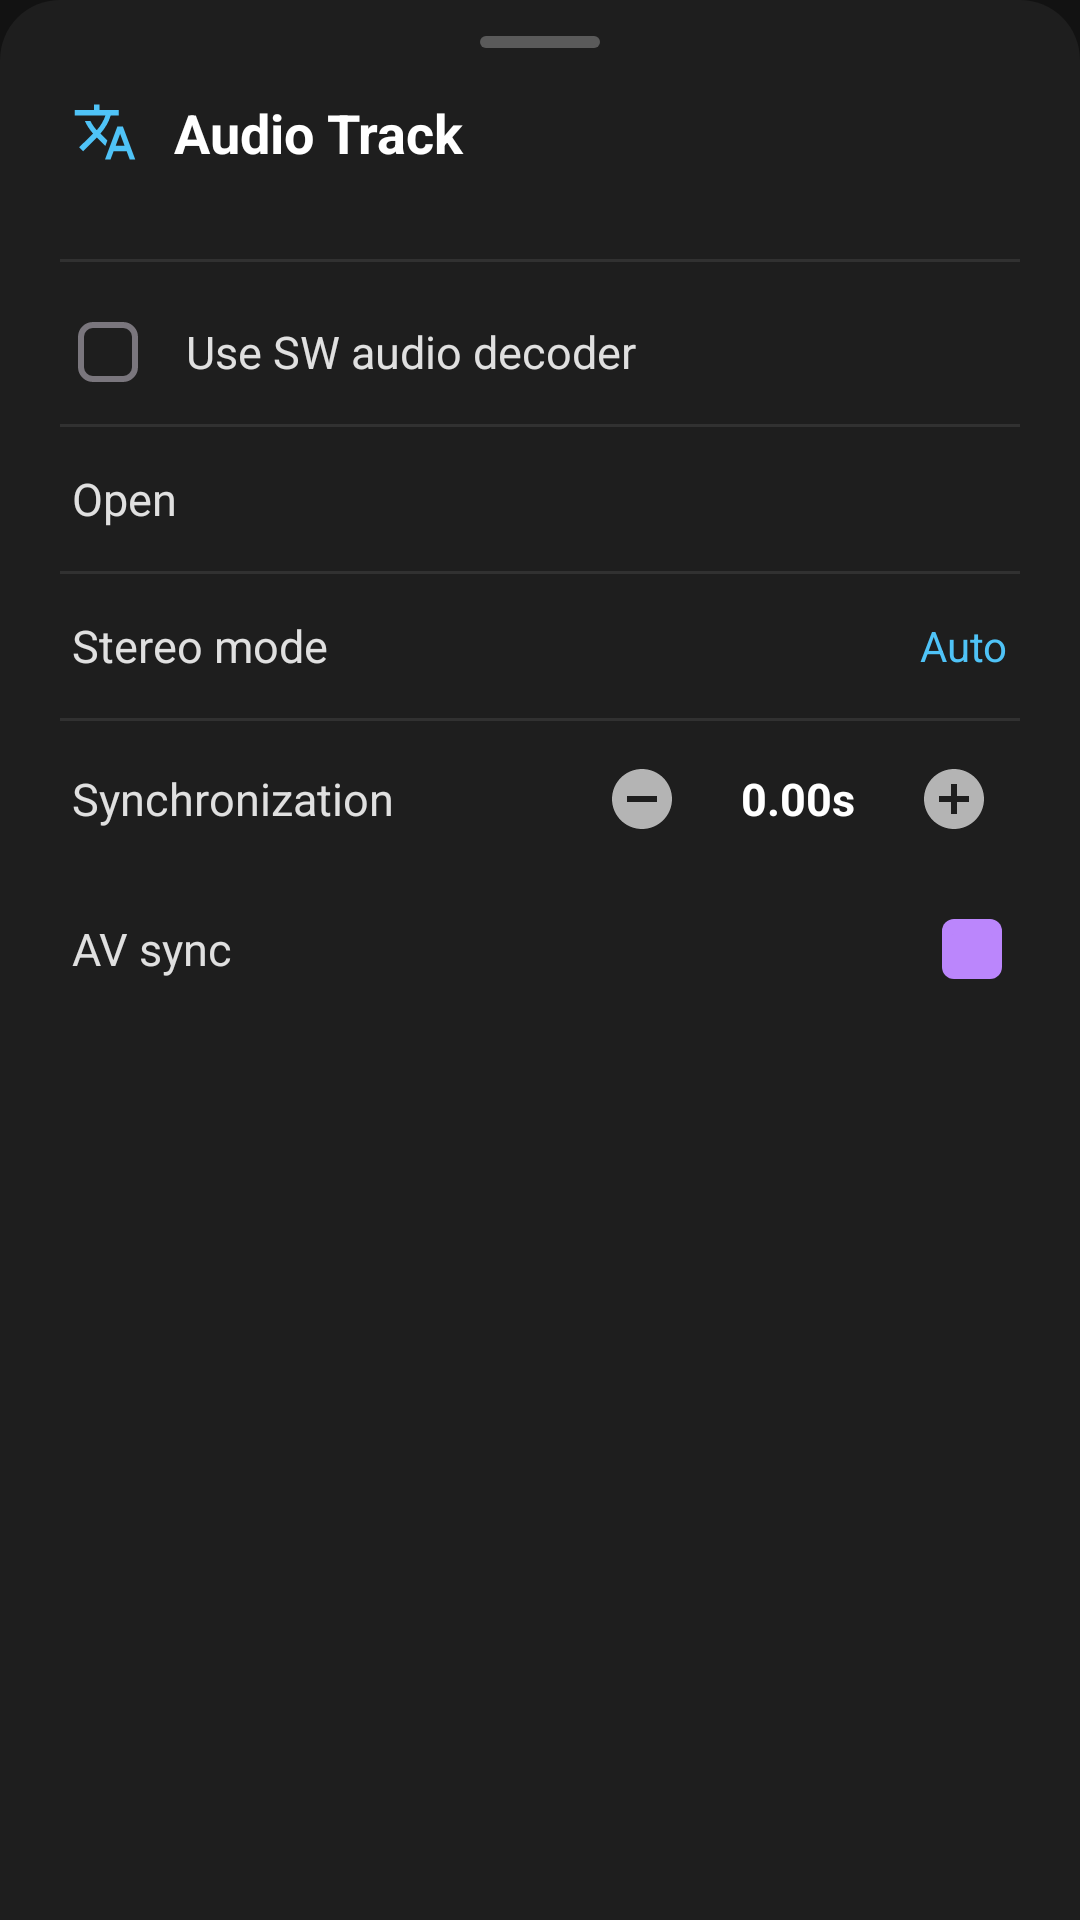

Named icons in this screenshot (1080*1920) and their centers, (x=x, y=y):
custom checkbox: (x=108, y=352), (x=972, y=949)
Decrease sync: (x=642, y=799)
Increase sync: (x=954, y=799)
language: (x=104, y=132)
